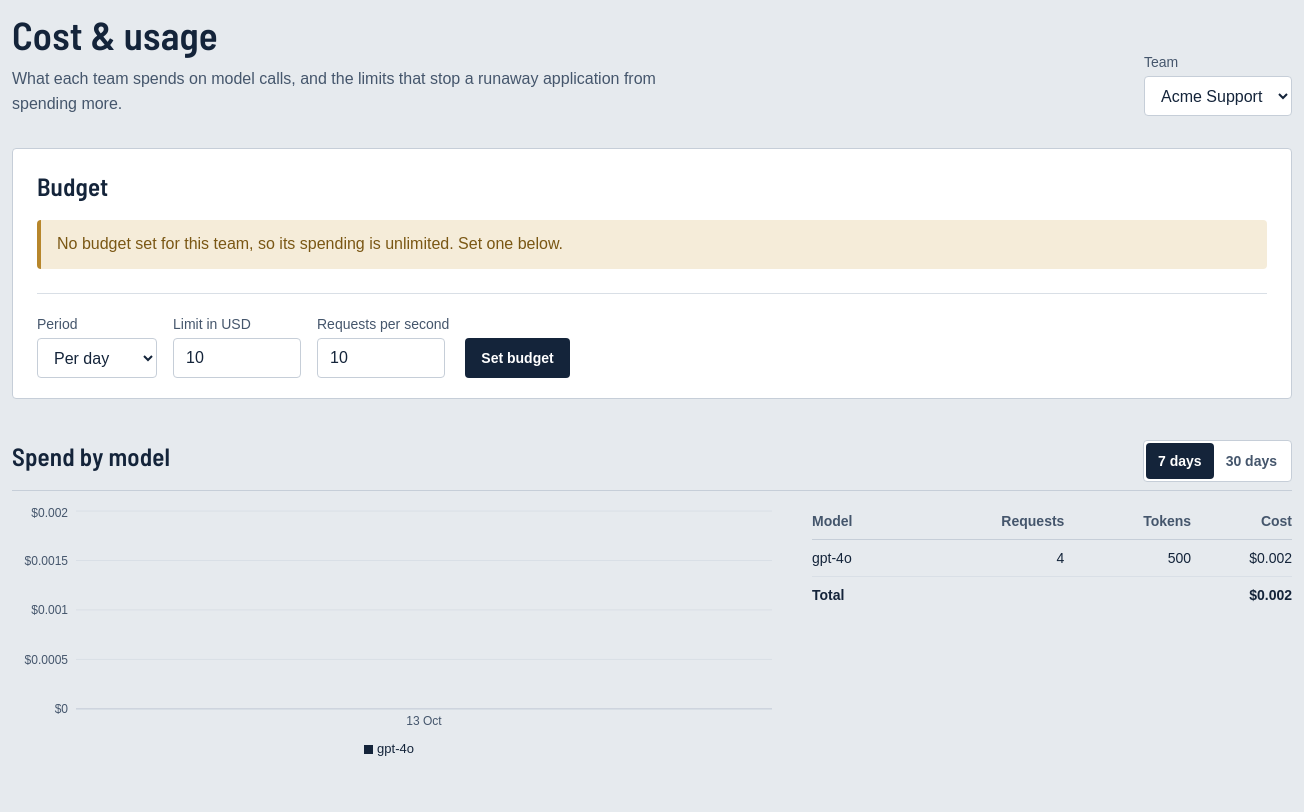
Test case: Cost & usage › explains a team with no budget, and sets one
Expected: the text "No budget set for this team" is shown, left=57, top=236, right=563, bottom=252
Replace the text in the number field labelled "Limit in USD" with "25" at (237, 358), box left=173, top=338, right=301, bottom=378
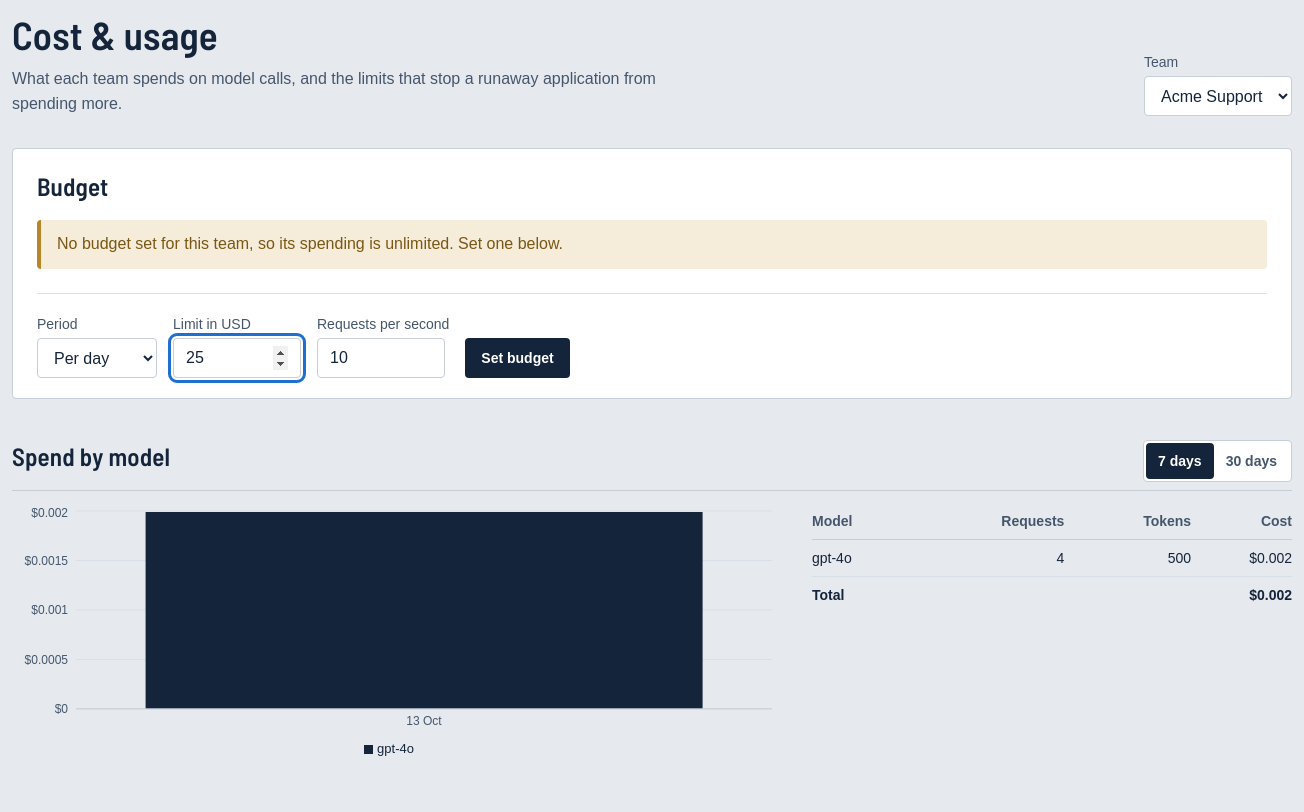
Click the button "Set budget" at (517, 358), box left=465, top=338, right=570, bottom=378
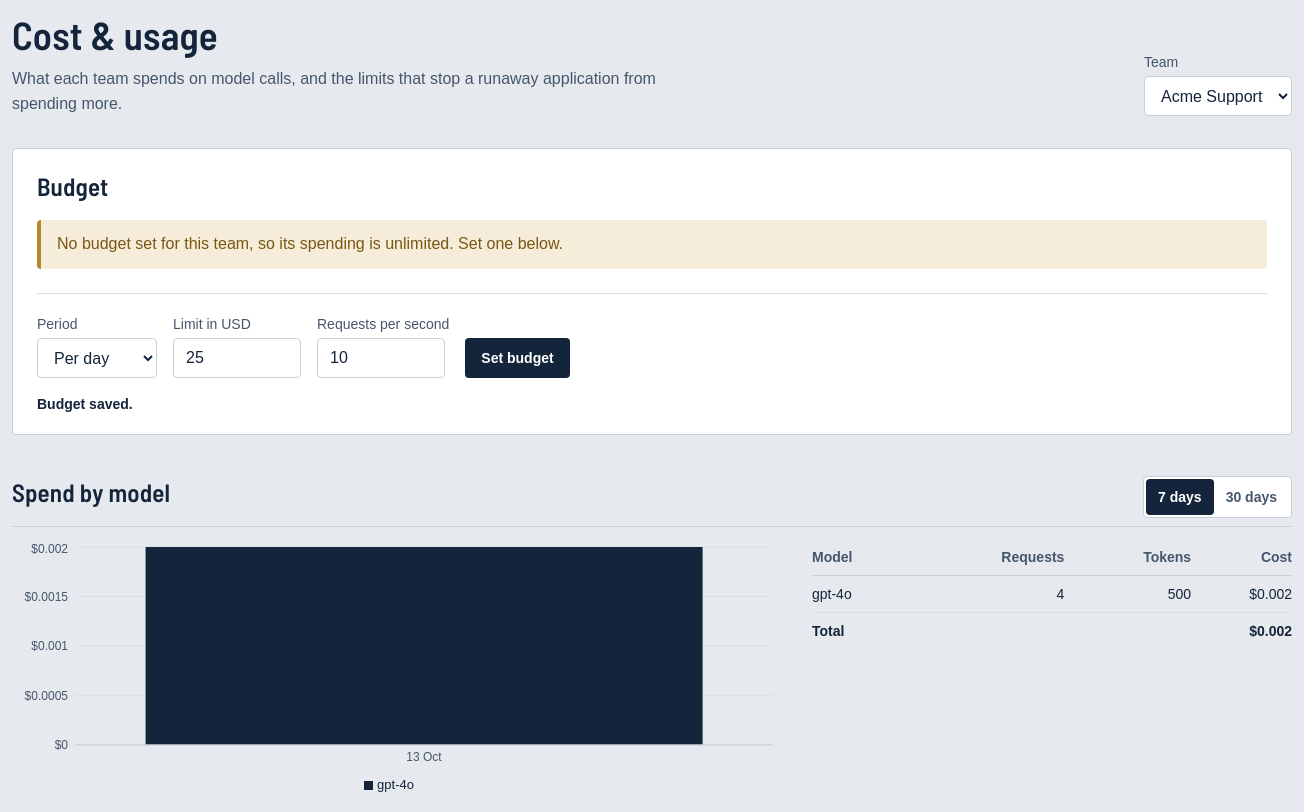
Expected: the text "Budget saved." is shown, left=37, top=396, right=133, bottom=412
